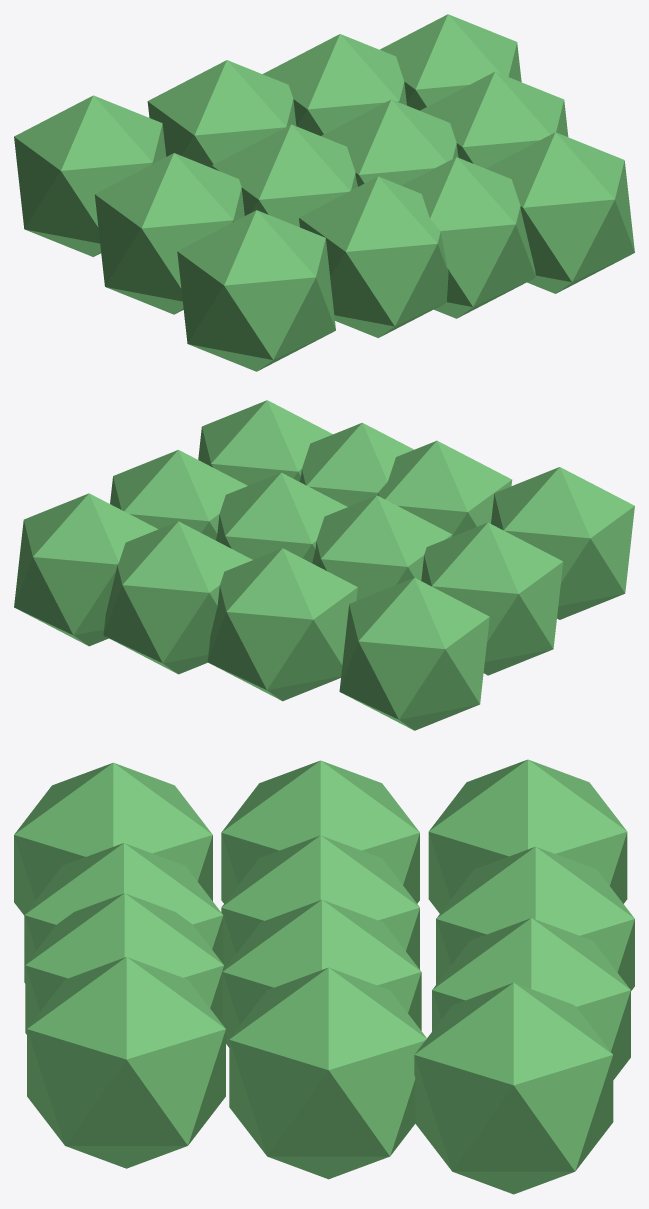
The model's file is Lettuce-0.fbx.
3 renders of one model, top to bottom at view 1: azimuth 30°, elevation 25°; view 2: azimuth 150°, elevation 25°; view 3: azimuth 270°, elevation 25°, orthographic. The views are drawn at different scales.
Parts seen in each view (by area): view 1: Lettuce-0; view 2: Lettuce-0; view 3: Lettuce-0.
Part boxes in pixels (bbox=[...]): Lettuce-0: bbox=[14, 14, 634, 371]; Lettuce-0: bbox=[14, 400, 634, 730]; Lettuce-0: bbox=[14, 759, 634, 1194].
Size of the model in its own units: 82.21 by 26.08 by 69.26.
